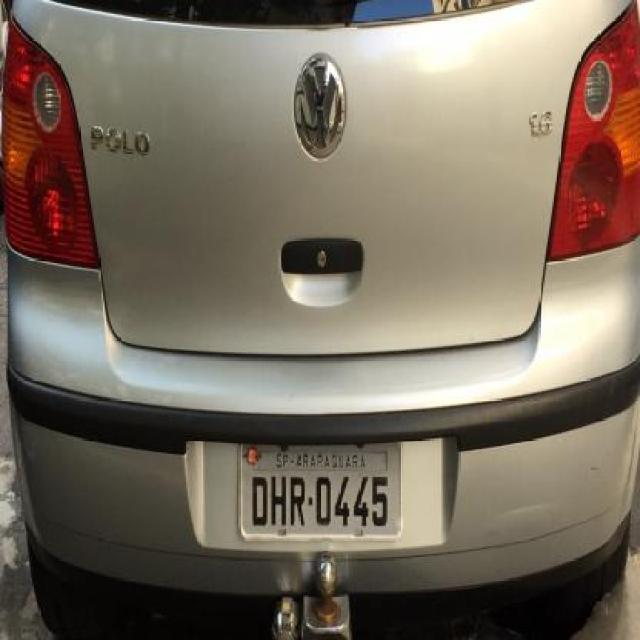old_plate: (235, 438, 405, 542)
